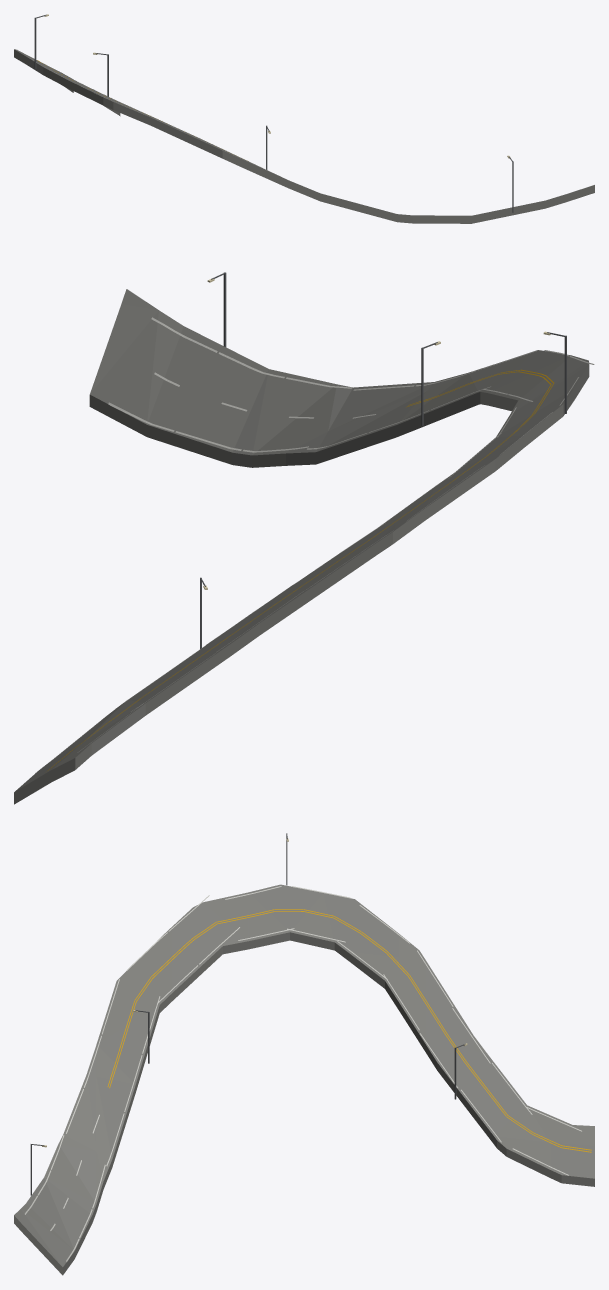
File: 17-109458-59505.a7acd745.glb
3 renders of one model, top to bottom at view 1: azimuth 30°, elevation 25°; view 2: azimuth 150°, elevation 25°; view 3: azimuth 270°, elevation 25°, orthographic. The views are drawn at different scales.
Size of the model in its own units: 65.37 by 36.44 by 76.78.
